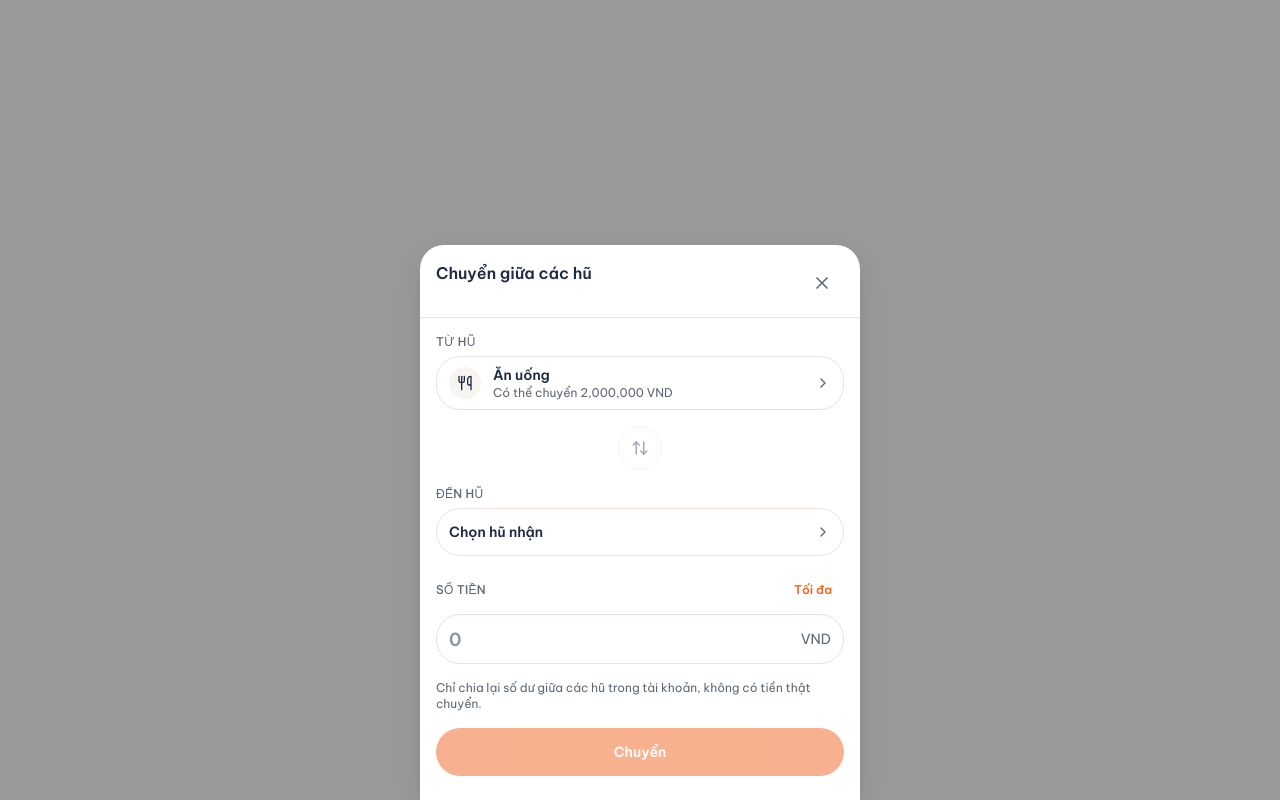
JarTransferSheet — endpoint selection › defaults the source to initialFromId and lets the user pick a destination via the picker
Expected: the button with aria-label "Hũ chuyển: Ăn uống — đổi" is shown, x1=436 y1=356 x2=844 y2=410
Click the button "Chọn hũ nhận" at x=496, y=532, box x1=436 y1=508 x2=844 y2=556
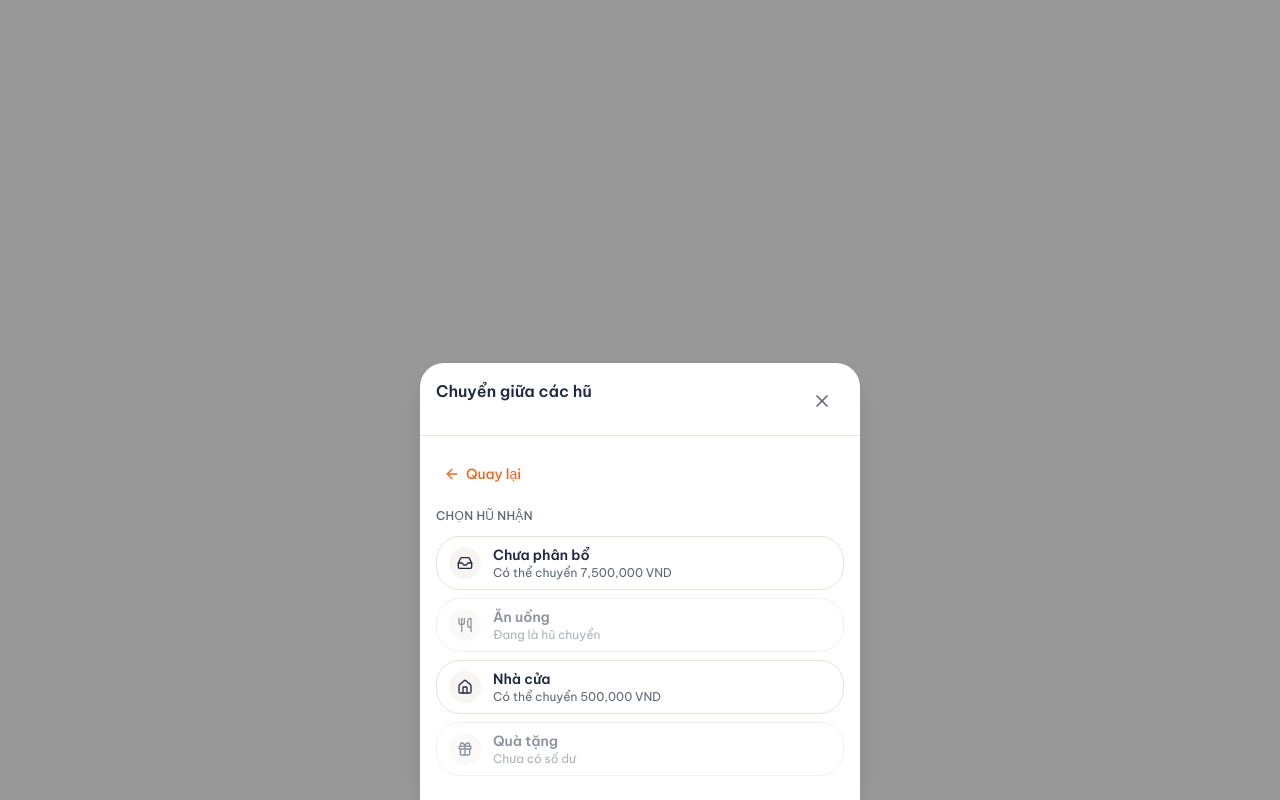
Expected: the text "Chọn hũ nhận" is shown, x1=436 y1=508 x2=533 y2=523
Click the button "Nhà cửa Có thể chuyển 500,000 VND" at x=640, y=687, box x1=436 y1=660 x2=844 y2=714
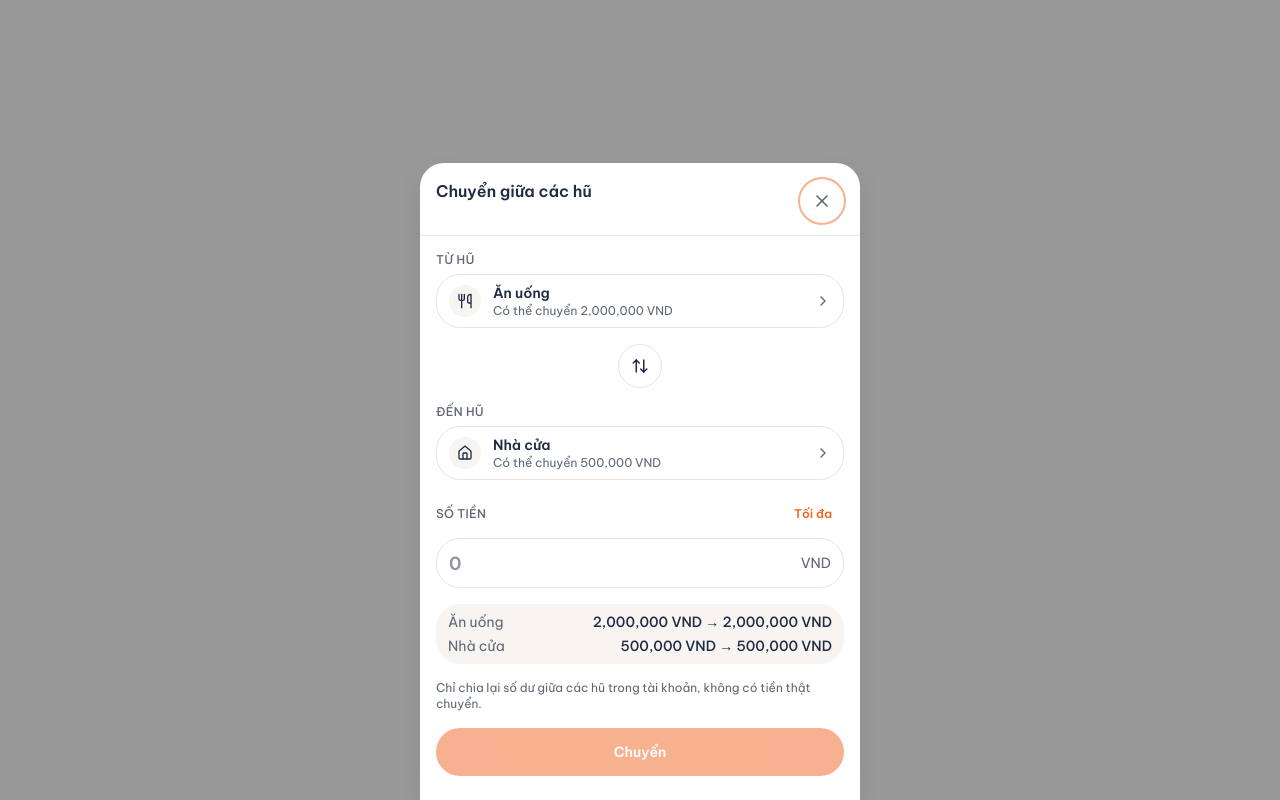
Expected: the button with aria-label "Hũ nhận: Nhà cửa — đổi" is shown, x1=436 y1=426 x2=844 y2=480
